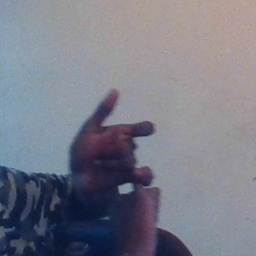S: (68, 87, 172, 237)
